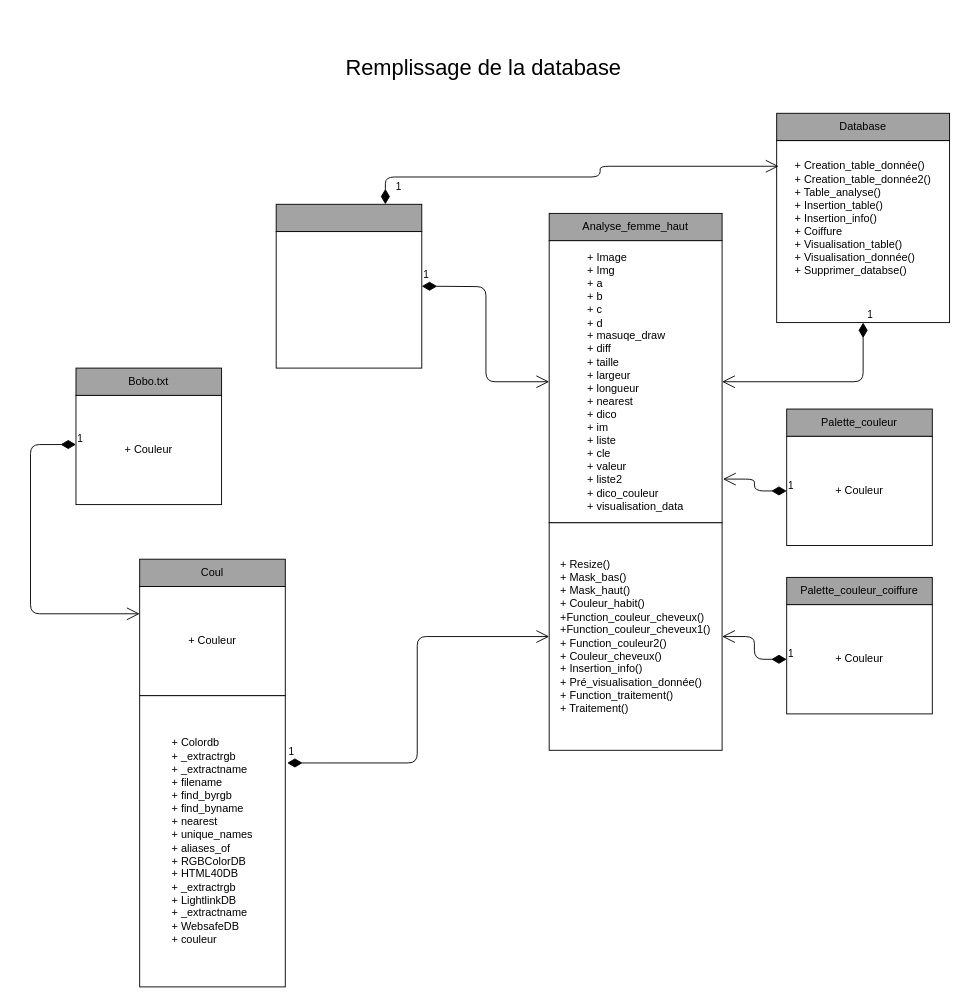
The diagram is 966 pixels wide and 1003 high, and some of its shapes have lost their labels. The shapes that lost their labels are listed below. From the top down, each one's box as (x1, y1, x2, y2) in pixels, then its label:
(275, 203, 422, 232): Config
(275, 231, 422, 368): + USER + HOST + PASSWORD + DATABASE + LISTE2
